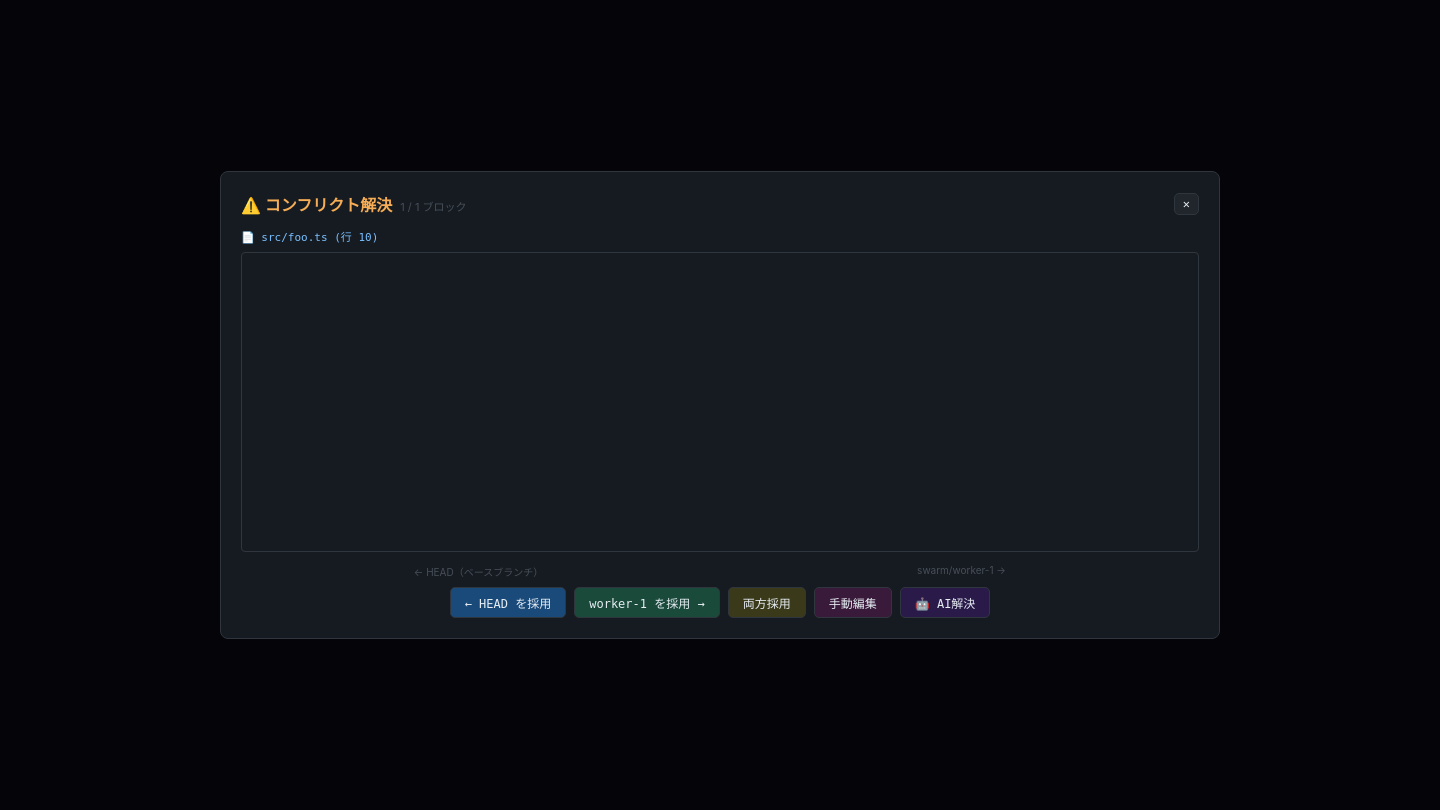
Scenario: SwarmConflictView › AI解決ボタンがai_resolve_conflictを呼び解決案を表示する
Click the button with test id "ai-resolve-button" at (945, 602), box 900,587 -> 990,618
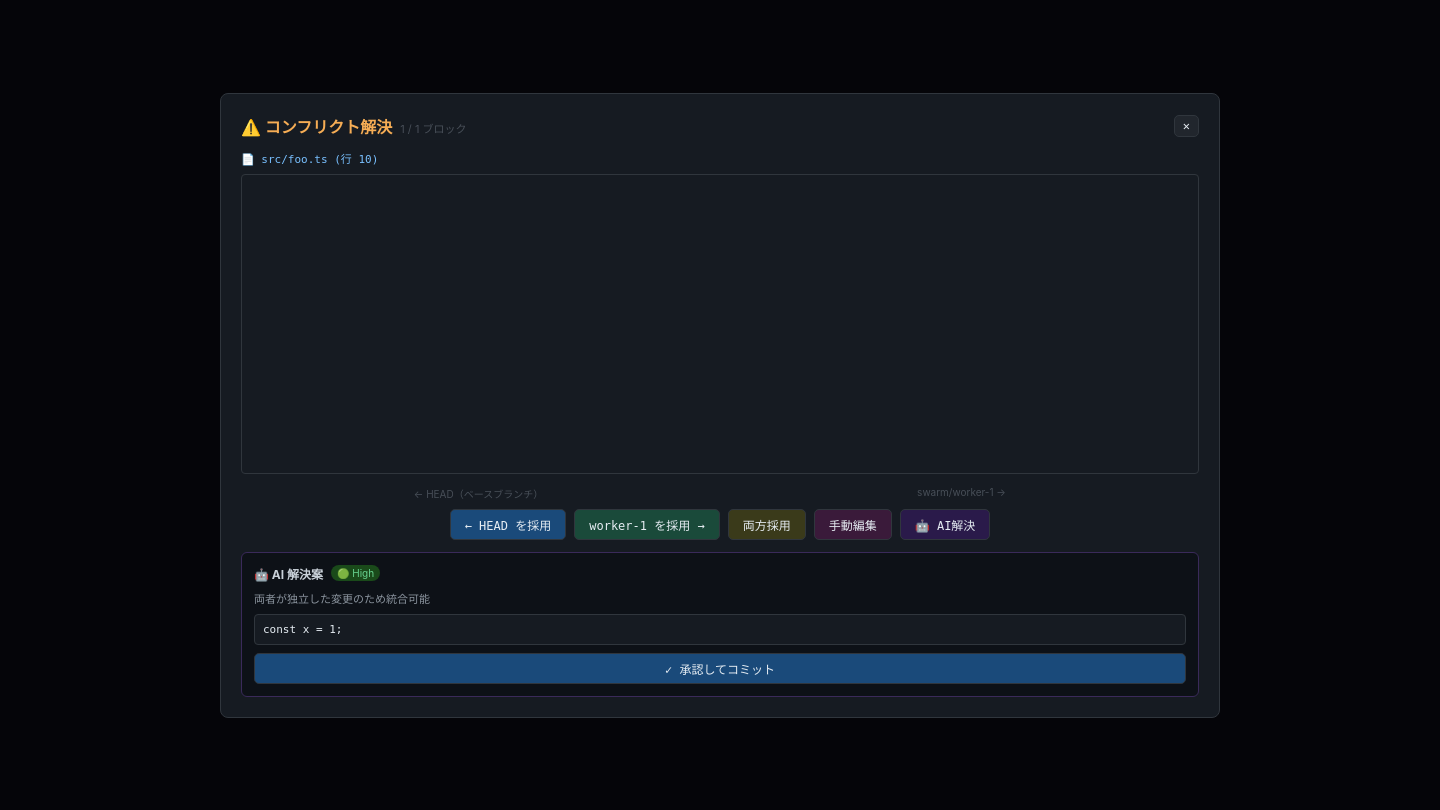
Now the element with test id "ai-resolution-panel" is shown, box 241,552 -> 1199,696
Now the text with test id "confidence-badge" shows "High", box 337,567 -> 374,579
Now the text "両者が独立した変更のため統合可能" is shown, box 254,592 -> 430,606
